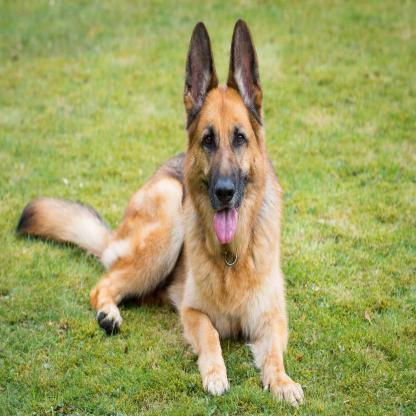german shepherd: (16, 21, 302, 409)
